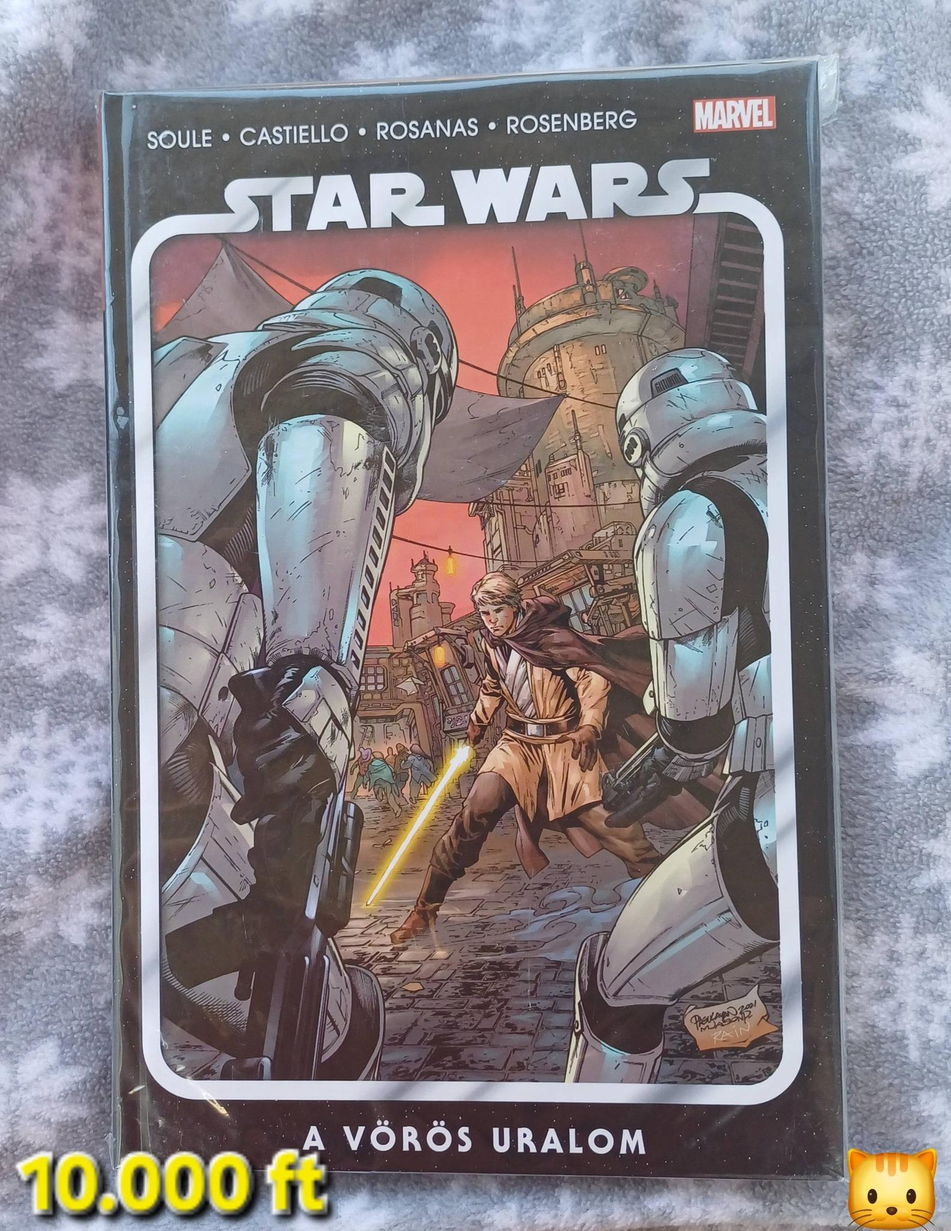comic: (102, 61, 842, 1185)
